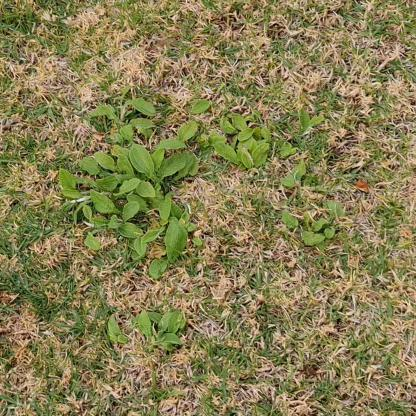Weeds: (59, 85, 337, 278), (107, 309, 184, 351), (281, 209, 335, 246)
